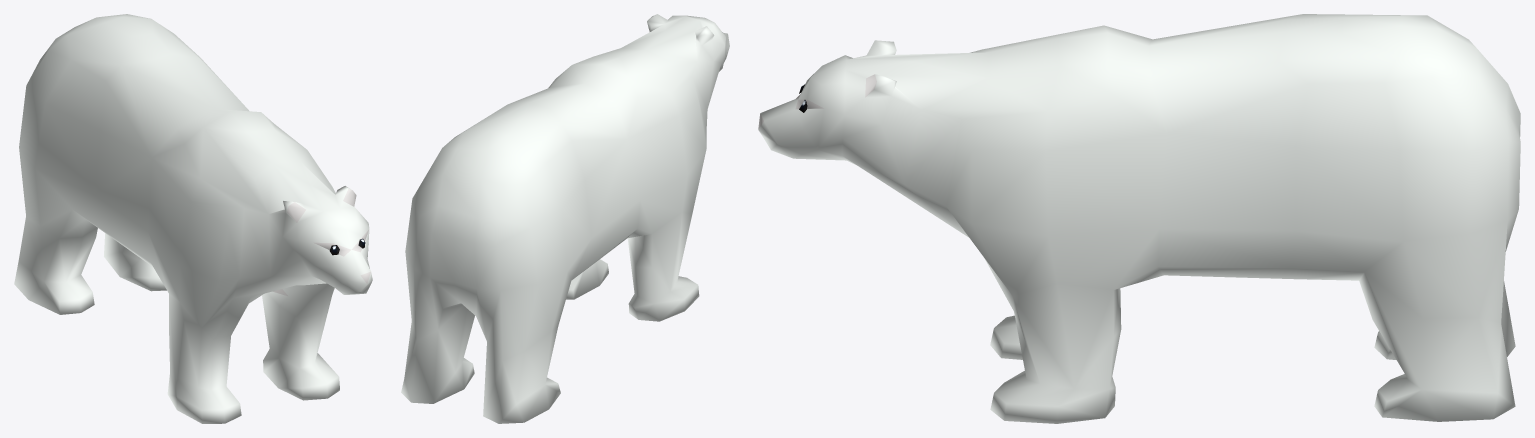
The model's file is PolarBear.glb.
3 views of the same model, side by side, from view 1: azimuth 30°, elevation 25°; view 2: azimuth 150°, elevation 25°; view 3: azimuth 270°, elevation 25° (orthographic). The views are drawn at different scales.
Visible parts, largest first — view 1: PolarBear; view 2: PolarBear; view 3: PolarBear.
Part boxes in pixels (bbox=[...]): PolarBear: bbox=[14, 14, 372, 423]; PolarBear: bbox=[401, 14, 729, 423]; PolarBear: bbox=[758, 14, 1520, 423].
Size of what is drawn, in the model's own units: 0.9426 by 1.54 by 2.99.
1 material, 1 textured.
